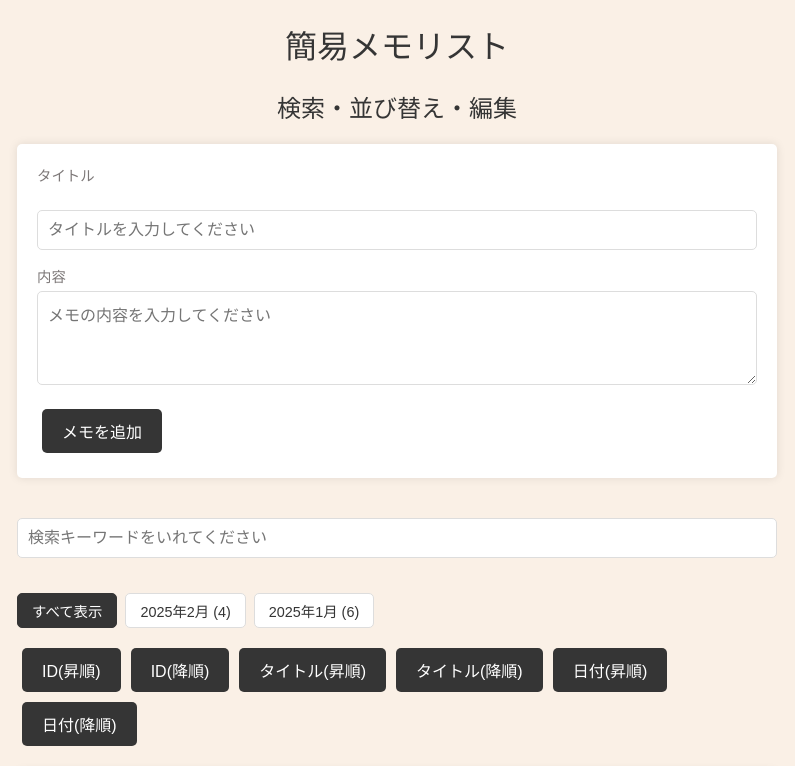
Scenario: App（メモの追加・編集・削除・永続化） › 削除ボタンを押して確認すると、メモが一覧から消える
Type "削除対象のメモ" into the field labelled "タイトル". click: [397, 230]
box: 37,210 -> 757,250
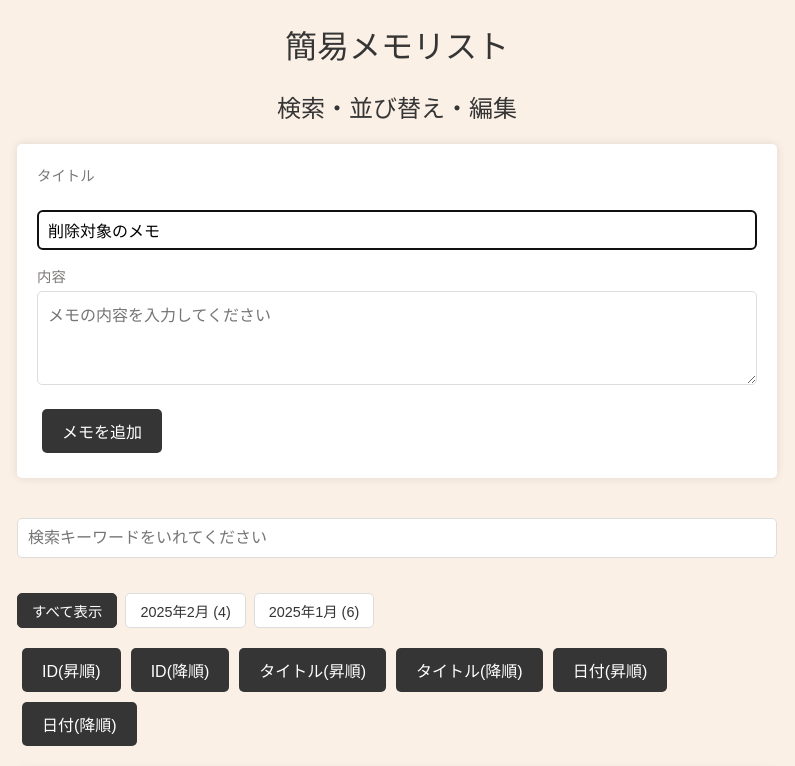
Type "削除される内容" into the text box labelled "内容". click: [397, 338]
box: 37,291 -> 757,385
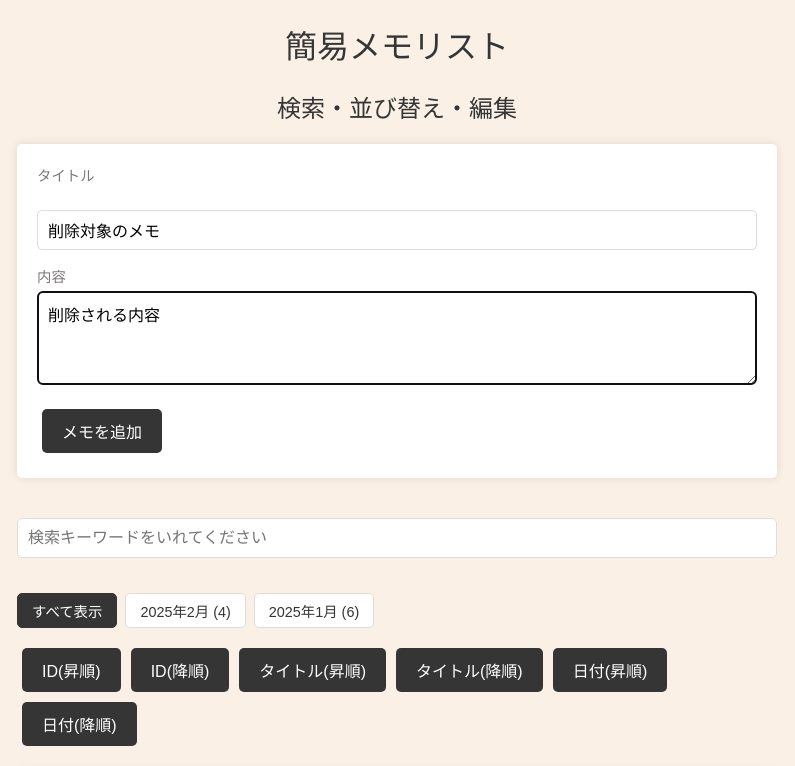
Click the button "メモを追加". click: [102, 431]
box: 42,409 -> 162,453
(page scrolled)
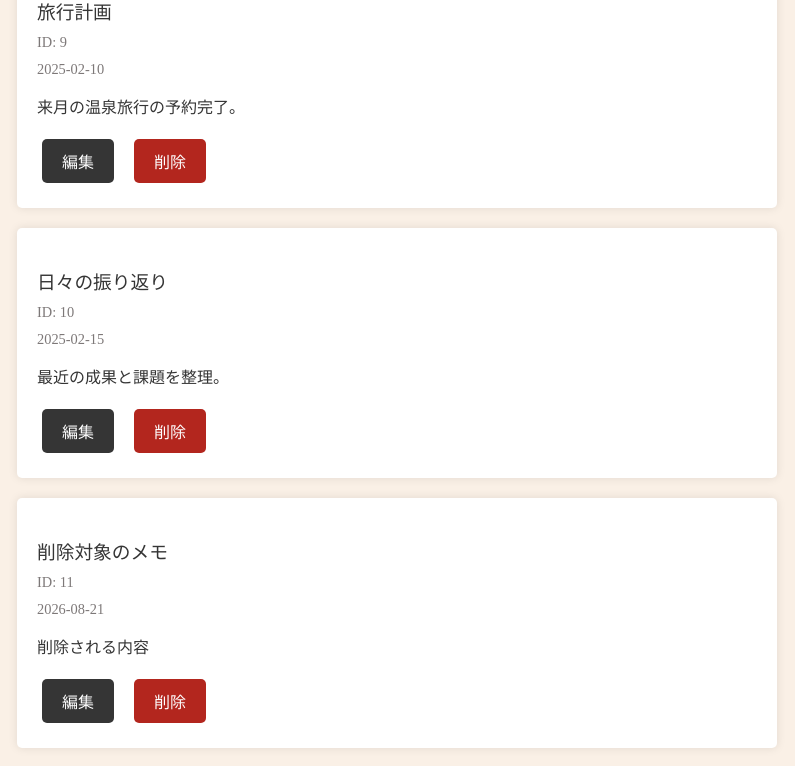
Expected: the heading "削除対象のメモ" is shown, 37,542 -> 168,563
Click the button "削除" below "削除対象のメモ". click: [170, 701]
box: 134,679 -> 206,723
(page scrolled)
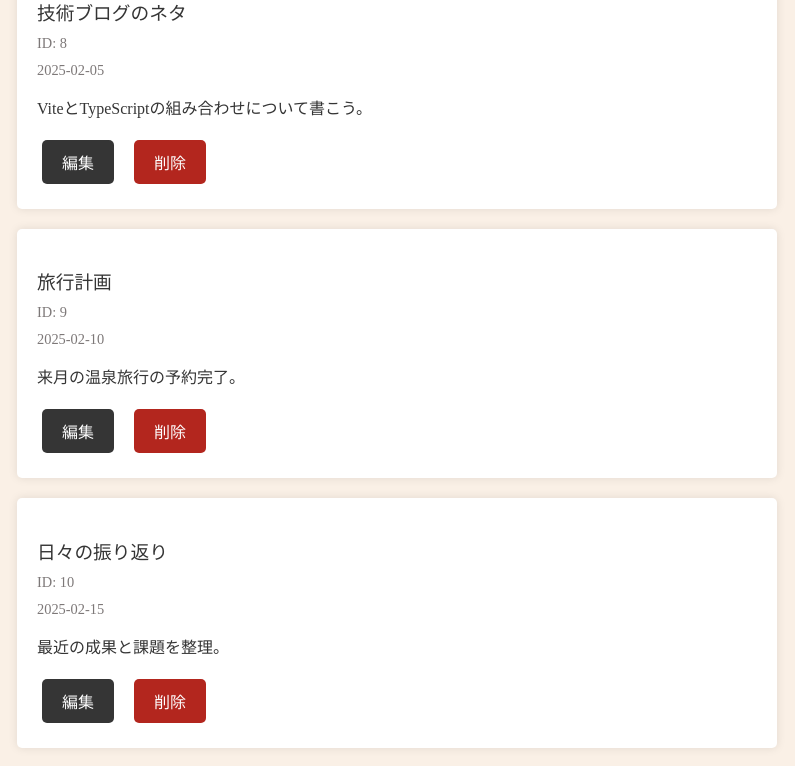
Expected: the heading "削除対象のメモ" is gone
